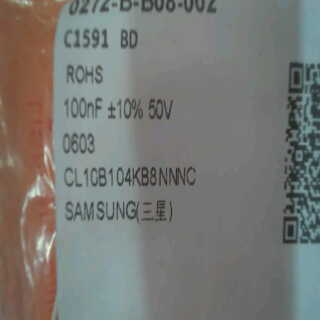100nF: (57, 93, 106, 120)
